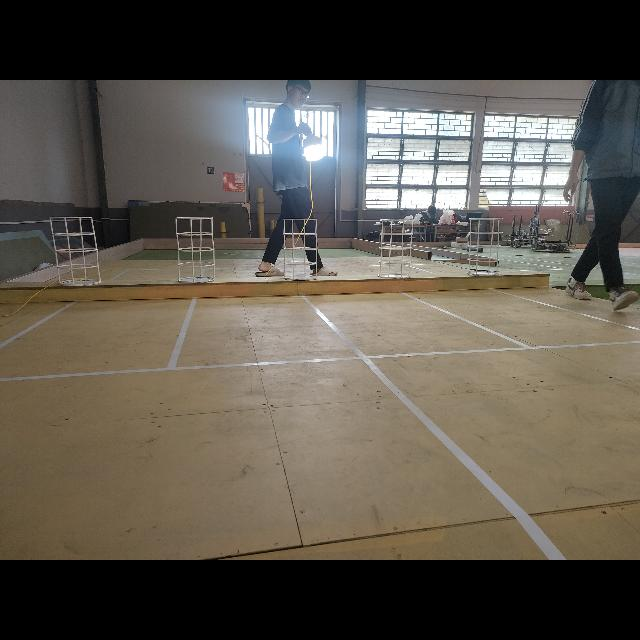S: (47, 216, 105, 286), (176, 213, 218, 284), (281, 216, 321, 282), (376, 217, 416, 280), (466, 217, 506, 280)
